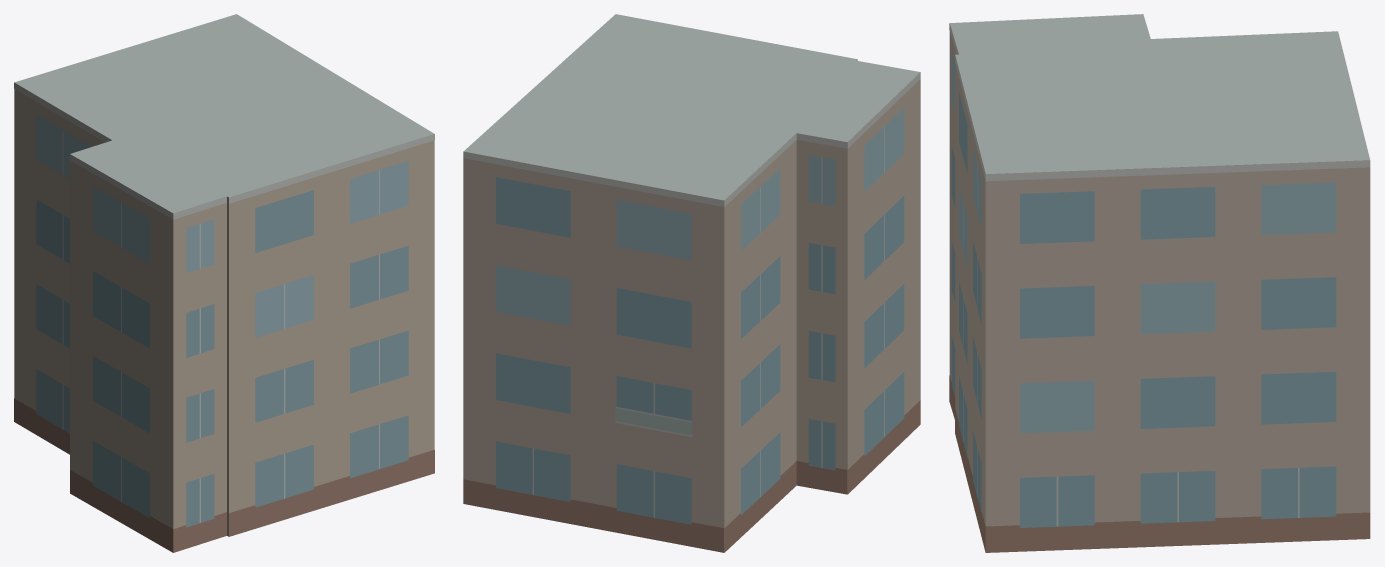
File: survey-upis-32998547.glb
The picture shows the model from 3 angles, left to right: view 1: azimuth 30°, elevation 25°; view 2: azimuth 150°, elevation 25°; view 3: azimuth 270°, elevation 25°; orthographic projection. The views are drawn at different scales.
Parts seen in each view (by area): view 1: survey-upis-32998547.tmp; view 2: survey-upis-32998547.tmp; view 3: survey-upis-32998547.tmp.
Boxes of the visible parts, box(x1,y1,x2,y2) form: survey-upis-32998547.tmp: box(14, 14, 434, 552); survey-upis-32998547.tmp: box(463, 14, 920, 552); survey-upis-32998547.tmp: box(949, 14, 1370, 552).
Bounding box in the file's own units: 11.8 × 13 × 13.1.
